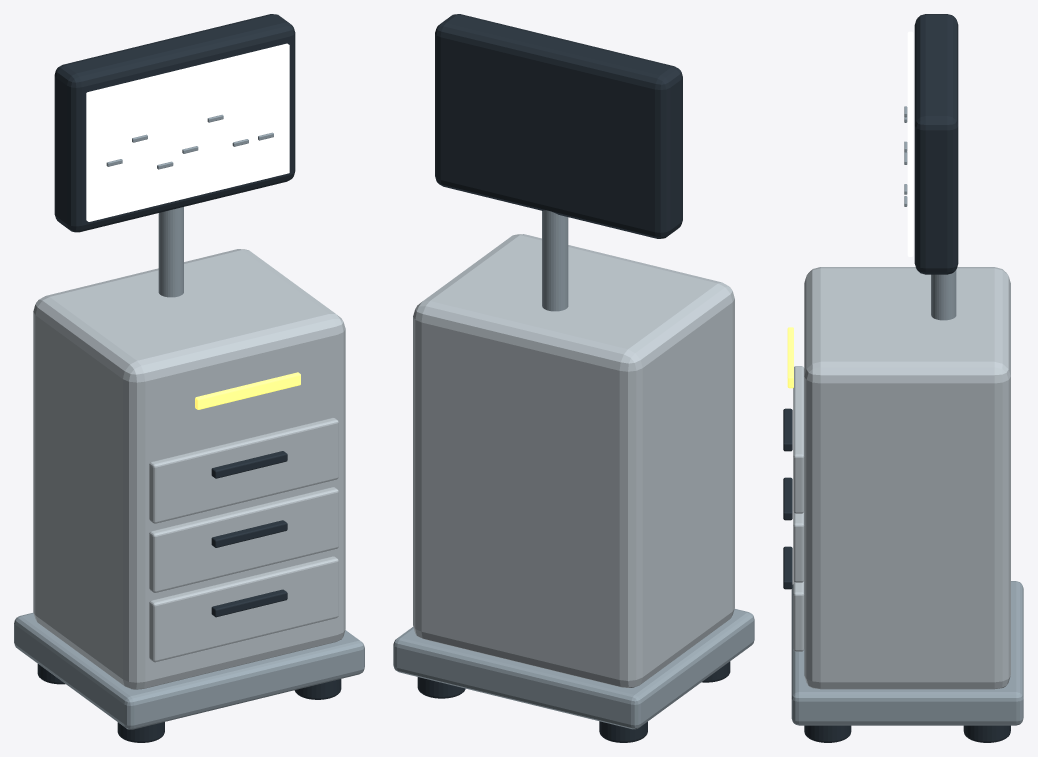
The model's file is diagnostic_cart.glb.
3 views of the same model, side by side, from view 1: azimuth 30°, elevation 25°; view 2: azimuth 150°, elevation 25°; view 3: azimuth 270°, elevation 25° (orthographic). The views are drawn at different scales.
Visible parts, largest first — view 1: diagnostic_cart; view 2: diagnostic_cart; view 3: diagnostic_cart.
Part boxes in pixels (box(x1,y1,x2,y2)): diagnostic_cart: box(14, 14, 364, 742); diagnostic_cart: box(393, 14, 754, 742); diagnostic_cart: box(783, 14, 1023, 742).
Size of the model in its own units: 0.76 by 1.91 by 0.6625.
